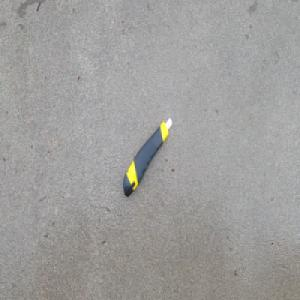Cutter: (121, 116, 173, 197)
